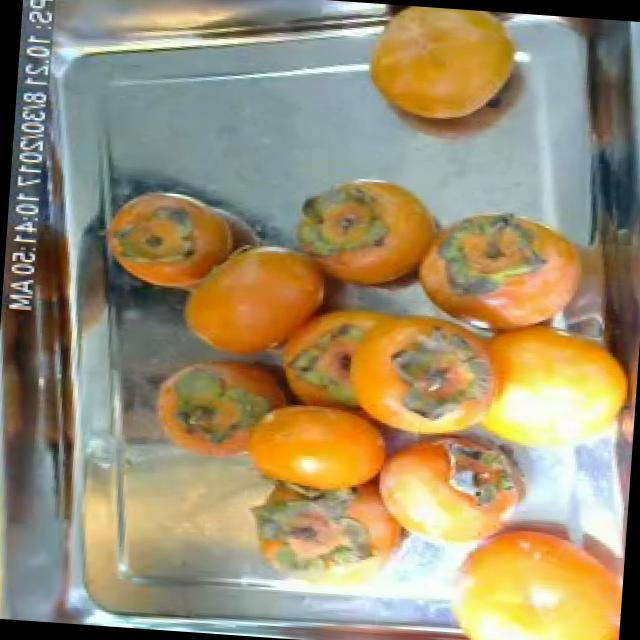Fruit: (348, 2, 534, 154), (276, 163, 459, 311), (158, 225, 338, 373), (99, 172, 252, 302)
